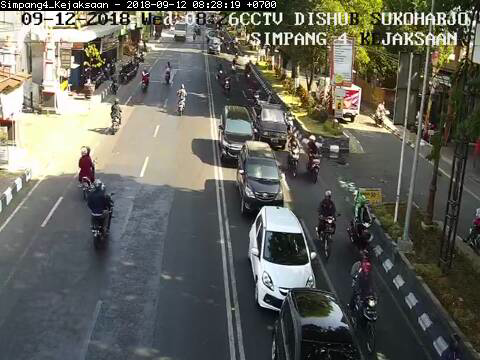motor: (348, 250, 382, 357), (349, 189, 376, 259), (316, 189, 337, 261), (306, 134, 324, 185), (283, 133, 302, 177)
